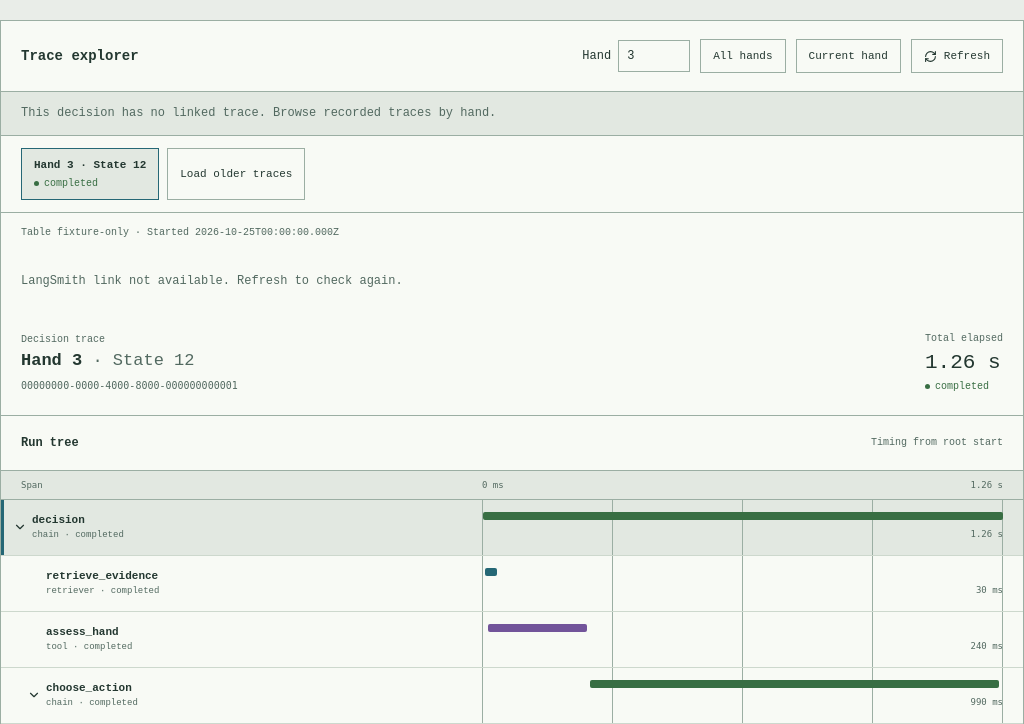
Test: trace requests and selection › authenticates requests, paginates opaque cursors, and selects a decision
Expected: the heading "Hand 3 · State 12" is shown, [21, 351, 194, 370]
Click the button "Load older traces". click: x=236, y=174
box: [167, 148, 306, 200]
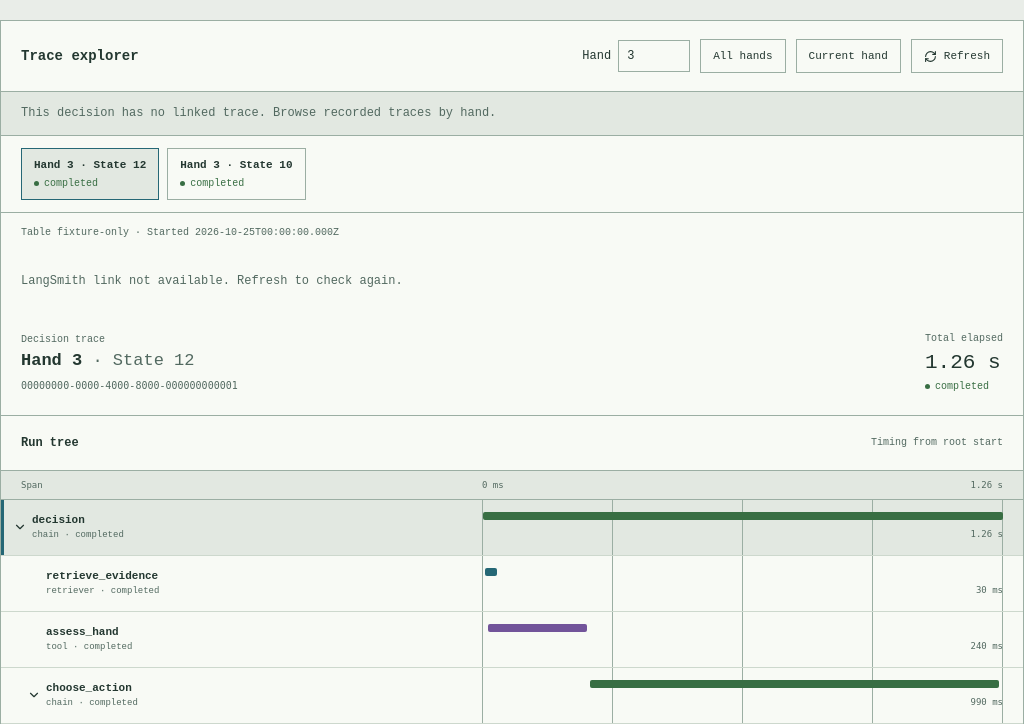
Result: the button "Hand 3 · State 10 completed" is shown
Click the button "Hand 3 · State 10 completed". click: x=236, y=174
box: [167, 148, 306, 200]
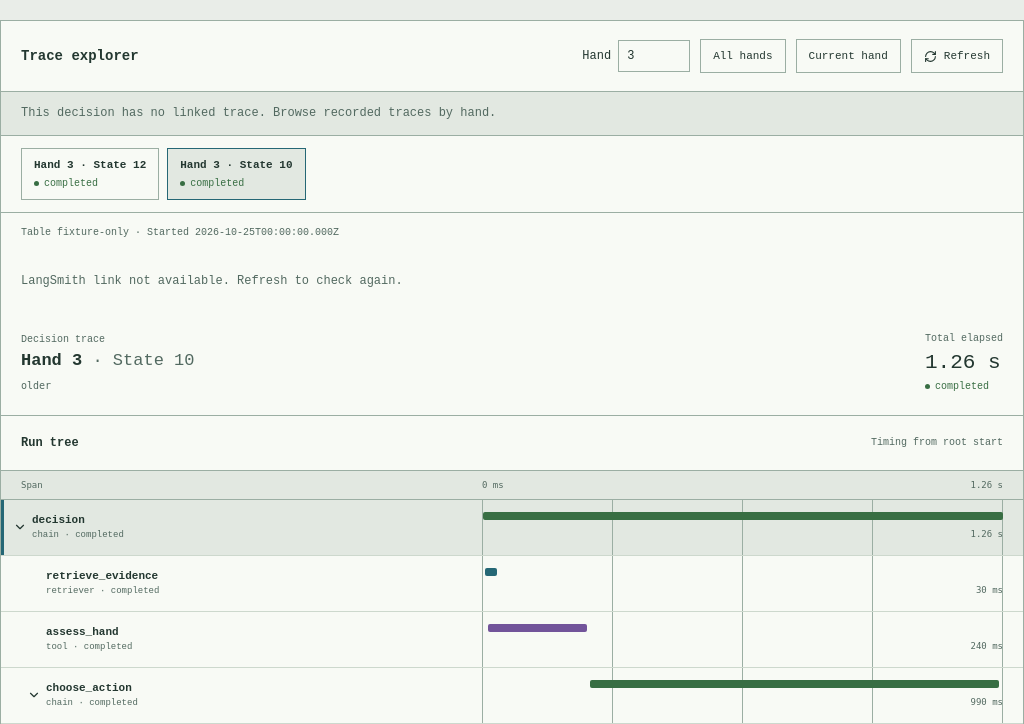
Result: the heading "Hand 3 · State 10" is shown at [21, 351, 194, 370]
